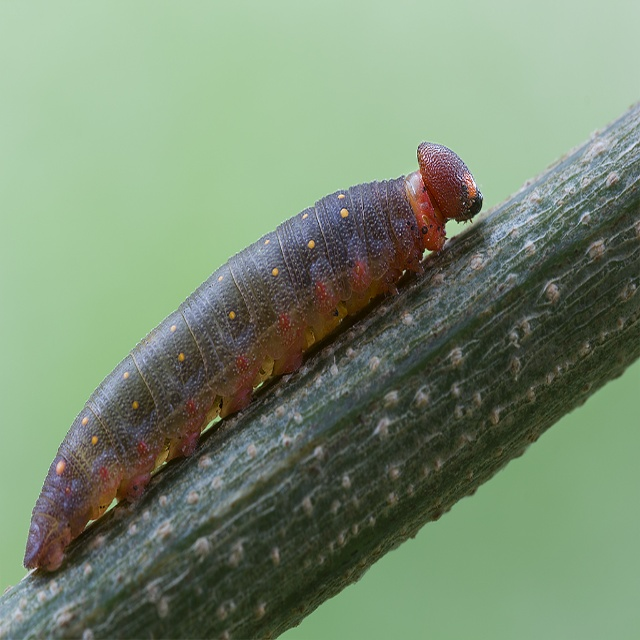Caterpillar: (22, 134, 484, 578)
